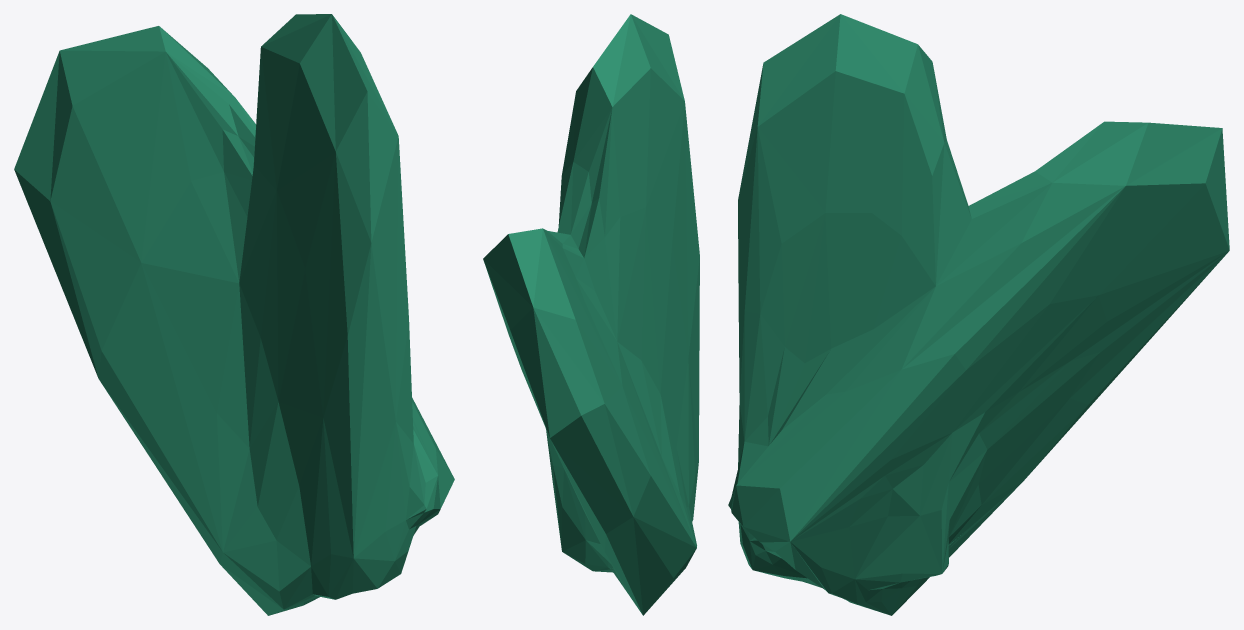
The picture shows the model from 3 angles, left to right: view 1: azimuth 30°, elevation 25°; view 2: azimuth 150°, elevation 25°; view 3: azimuth 270°, elevation 25°; orthographic projection. The views are drawn at different scales.
Parts seen in each view (by area): view 1: 528_Cube.2129; view 2: 528_Cube.2129; view 3: 528_Cube.2129.
Part boxes in pixels (box(x1,y1,x2,y2)): 528_Cube.2129: box(14, 14, 454, 615); 528_Cube.2129: box(483, 14, 699, 615); 528_Cube.2129: box(728, 14, 1229, 615).
Size of the model in its own units: 5.33 by 13.47 by 9.86.
